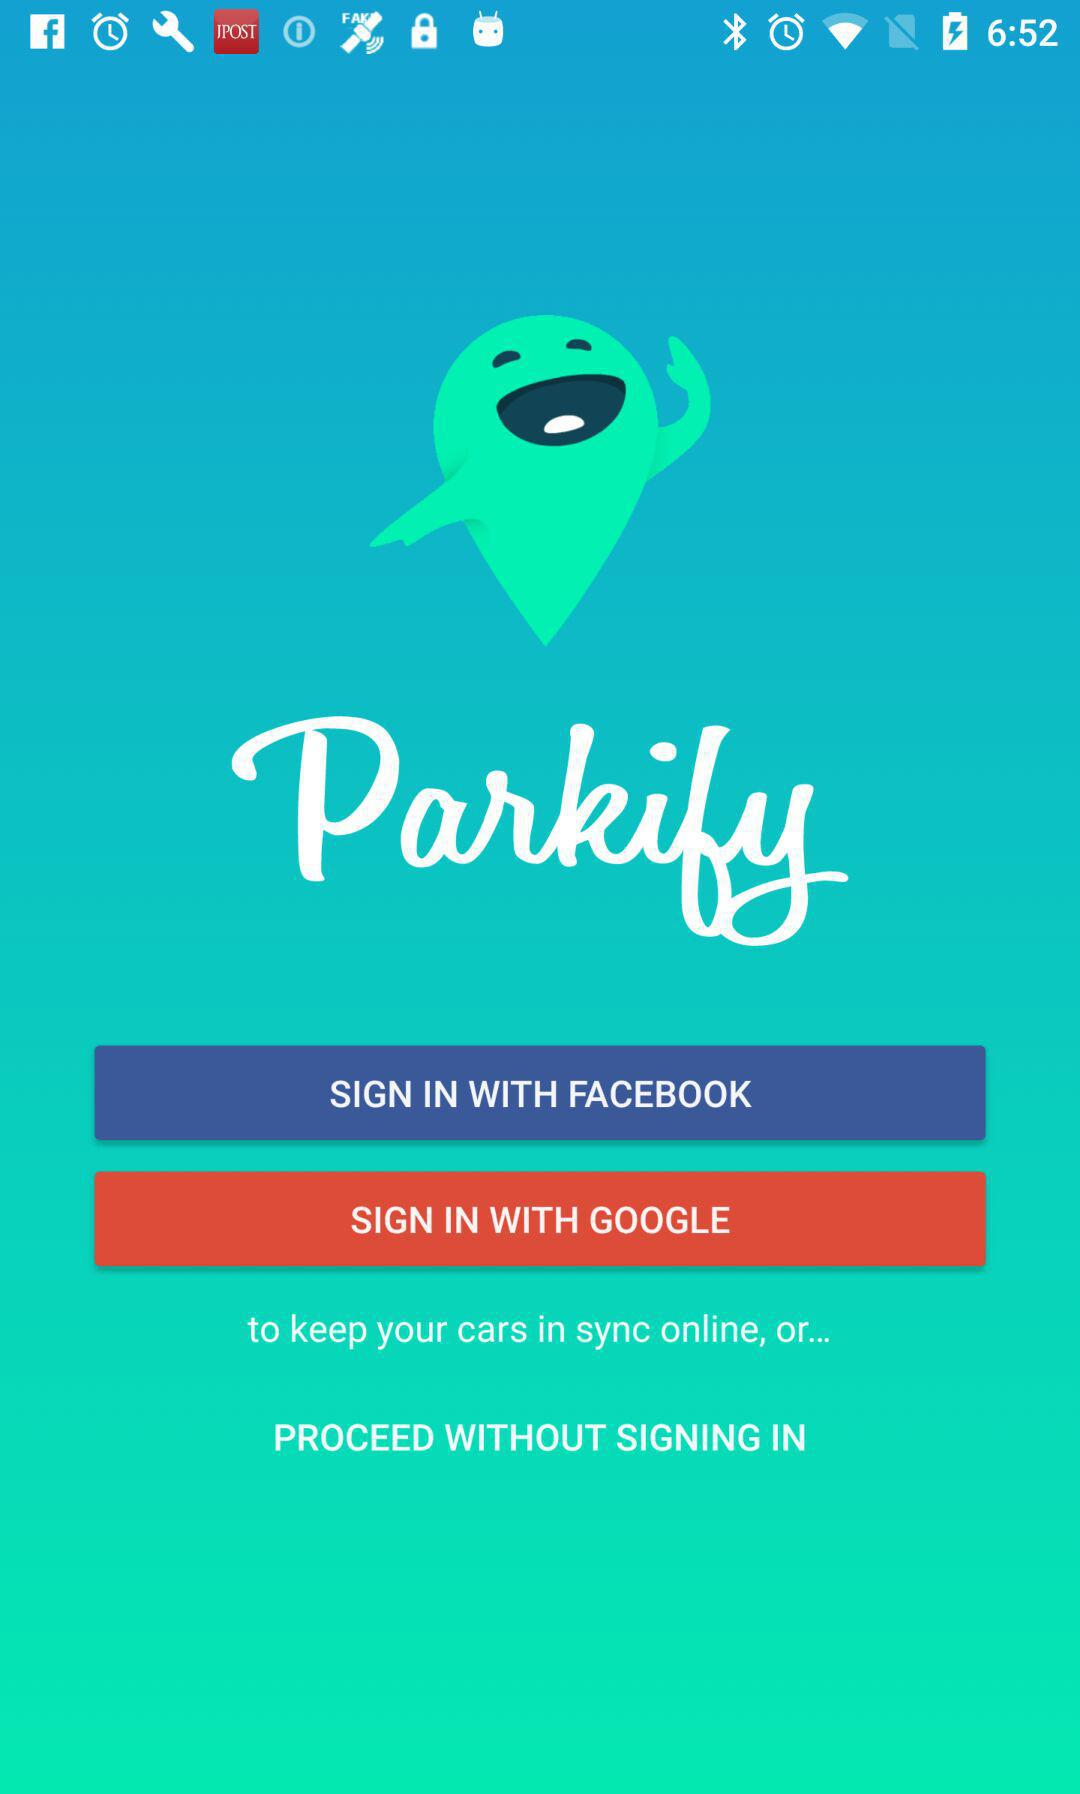Image: (231, 714, 851, 950), (366, 314, 714, 646)
Text: (249, 1313, 830, 1352), (275, 1422, 806, 1453)
TextButton: (94, 1173, 986, 1269), (95, 1044, 986, 1140)
UpperTaskBar: (1, 1, 1080, 59)
